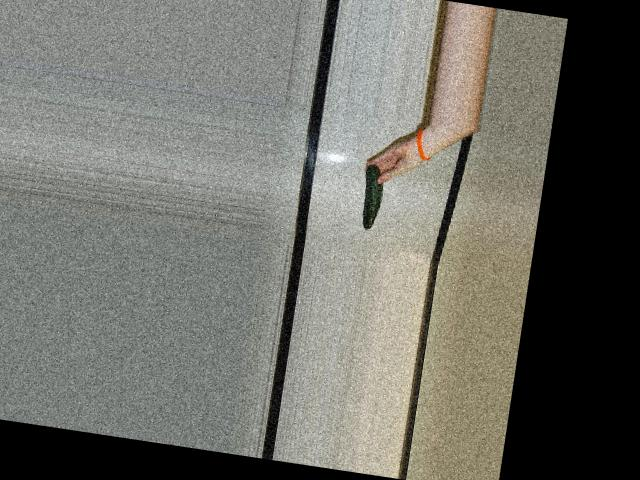cucumber: (356, 163, 385, 231)
